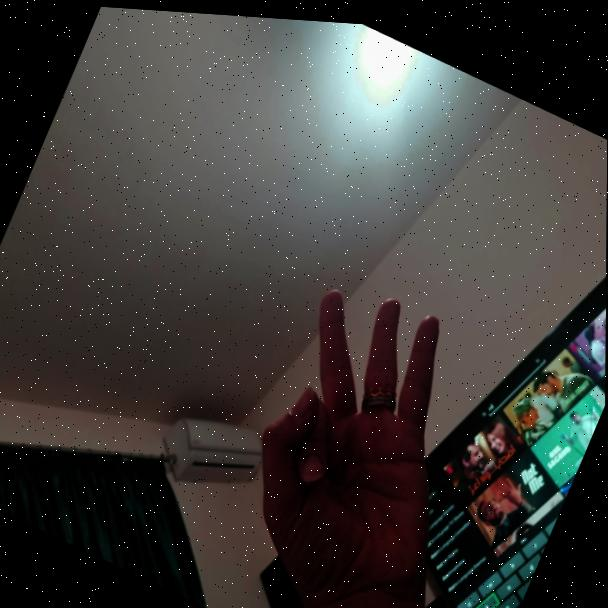five: (223, 239, 496, 597)
